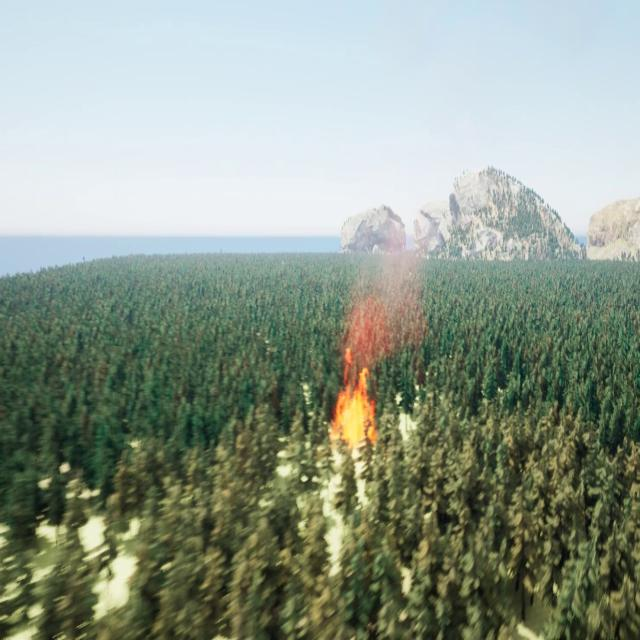fire: (327, 347, 378, 453)
smoke: (341, 218, 428, 379)
